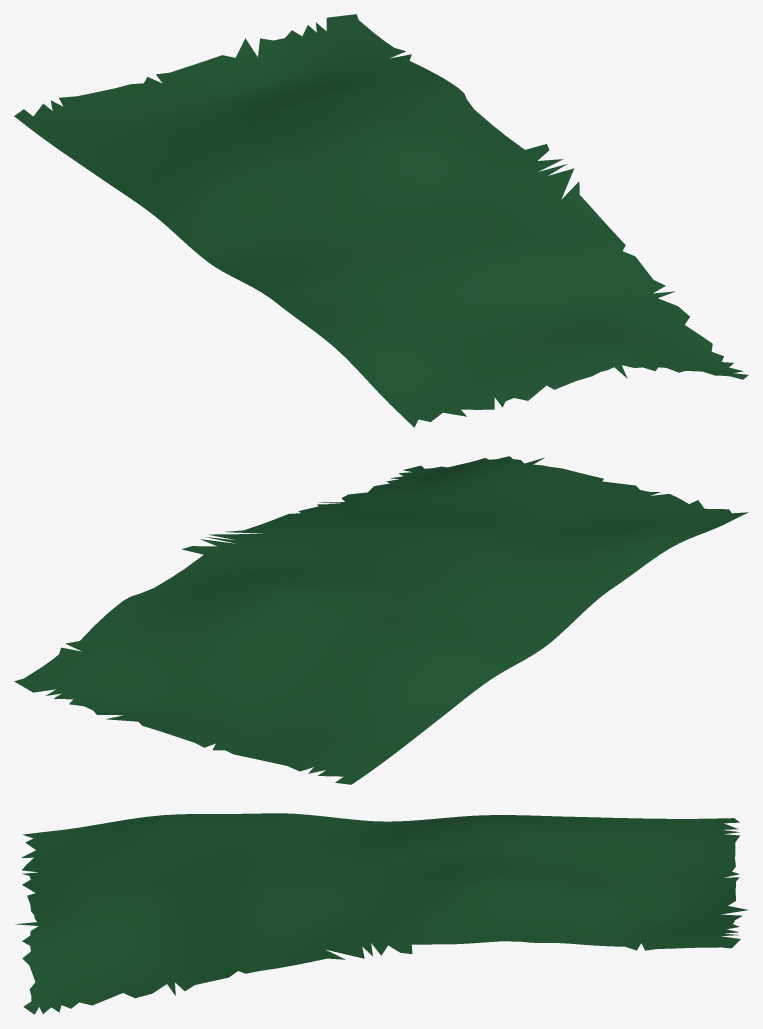
Rendered from payo_land_x4_y1.glb.
3 renders of one model, top to bottom at view 1: azimuth 30°, elevation 25°; view 2: azimuth 150°, elevation 25°; view 3: azimuth 270°, elevation 25°, orthographic. The views are drawn at different scales.
Parts seen in each view (by area): view 1: payo_land_x4_y1; view 2: payo_land_x4_y1; view 3: payo_land_x4_y1.
Boxes of the visible parts, x1=… form: payo_land_x4_y1: x1=14, y1=14, x2=748, y2=427; payo_land_x4_y1: x1=14, y1=456, x2=748, y2=784; payo_land_x4_y1: x1=15, y1=813, x2=747, y2=1014.
Size of the model in its own units: 132 by 32.03 by 267.
